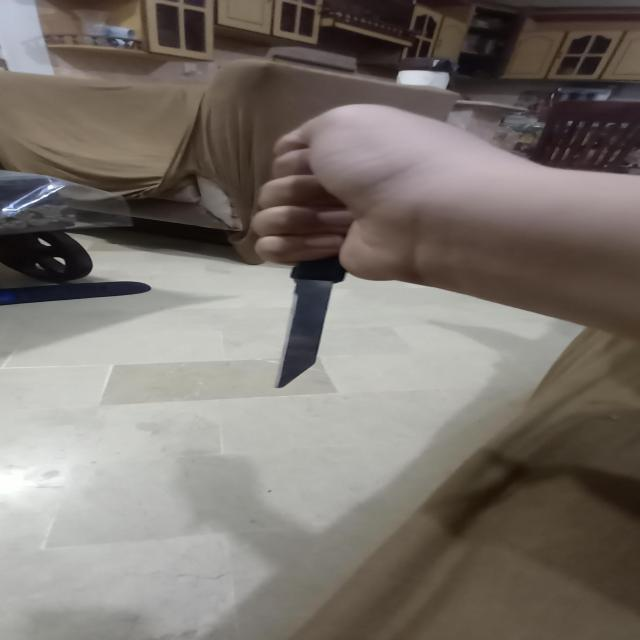Knife: (256, 101, 640, 342), (277, 258, 352, 390)
